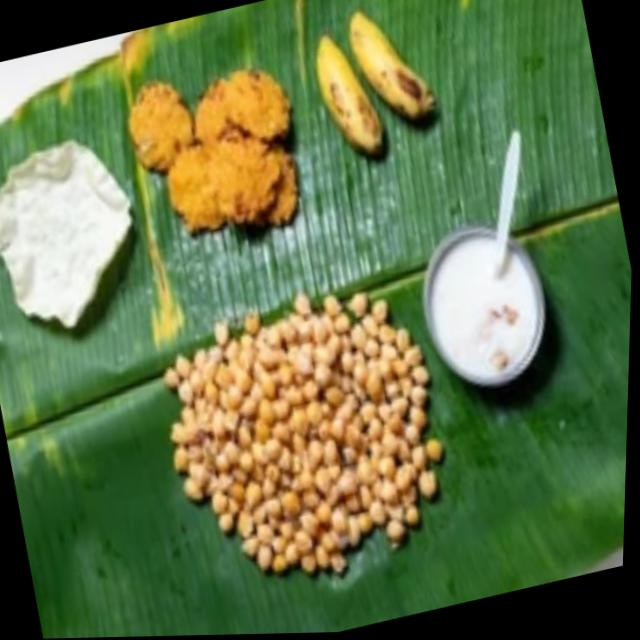BANANA: (312, 7, 433, 150)
PAPADAM: (0, 134, 134, 325)
SUNDAL: (162, 286, 447, 576)
SWEET: (429, 232, 536, 375)
VADA: (125, 61, 299, 241)
